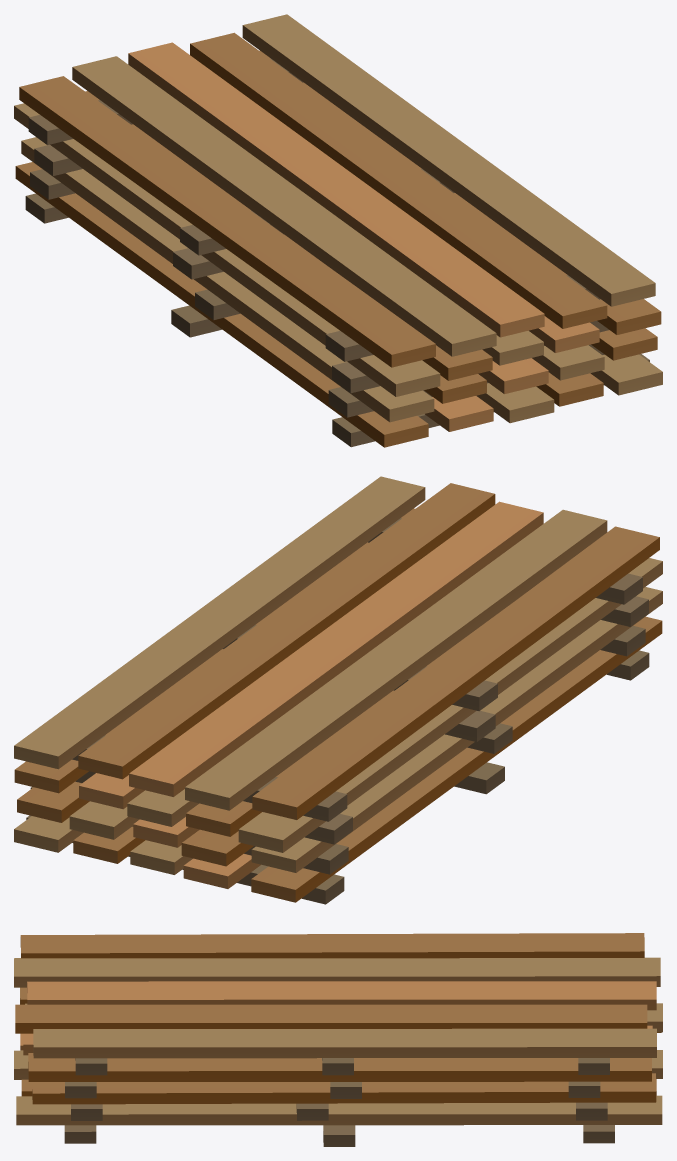
The model's file is Wooden_Planks.fbx.
The picture shows the model from 3 angles, top to bottom: view 1: azimuth 30°, elevation 25°; view 2: azimuth 150°, elevation 25°; view 3: azimuth 270°, elevation 25°; orthographic projection. The views are drawn at different scales.
Visible parts, largest first — view 1: Wooden_Planks; view 2: Wooden_Planks; view 3: Wooden_Planks.
Boxes of the visible parts, box(x1,y1,x2,y2) form: Wooden_Planks: box(14, 14, 662, 447); Wooden_Planks: box(14, 476, 662, 904); Wooden_Planks: box(14, 933, 662, 1146).
Bounding box in the file's own units: 220 × 71.72 × 463.
